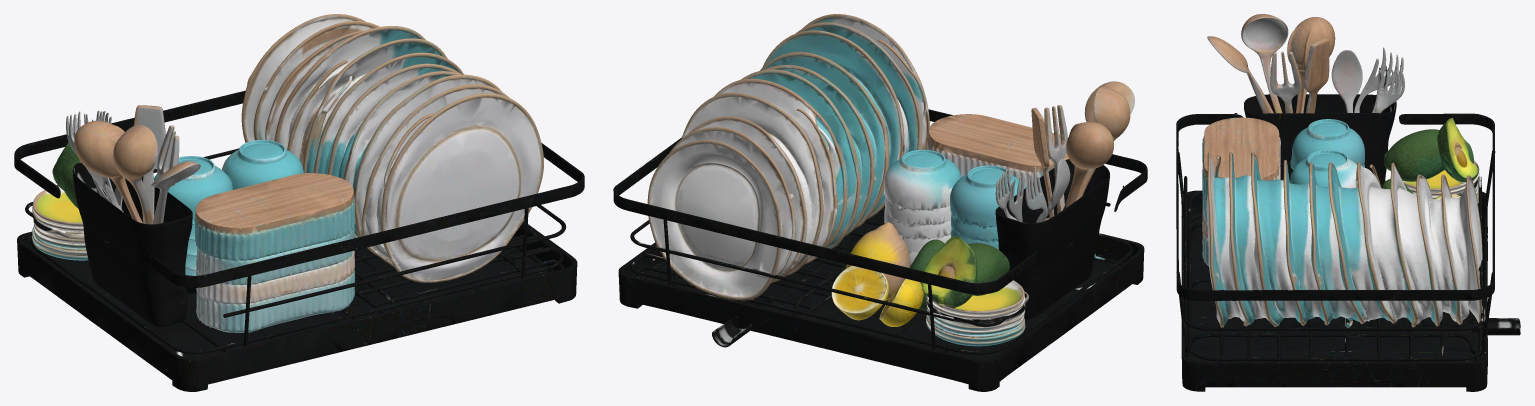
Rendered from texro.glb.
3 renders of one model, left to right at view 1: azimuth 30°, elevation 25°; view 2: azimuth 150°, elevation 25°; view 3: azimuth 270°, elevation 25°, orthographic. The views are drawn at different scales.
Bounding box in the file's own units: 1.9 × 0.9639 × 1.46.
1 material, 1 textured.
